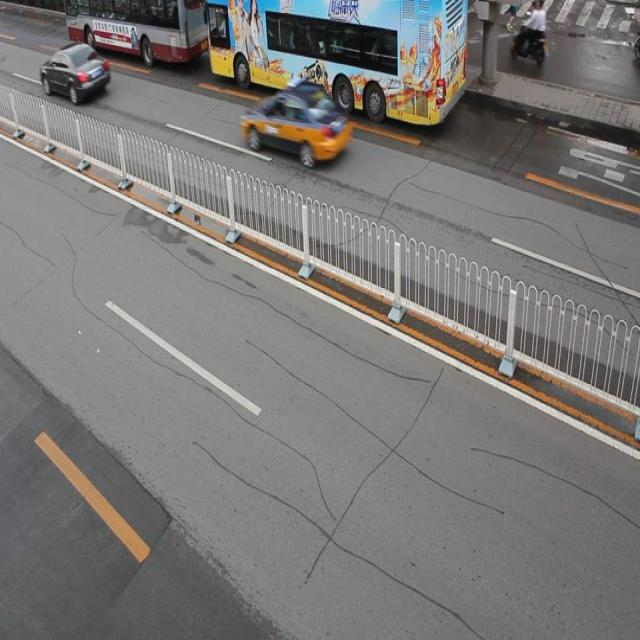car: (242, 82, 352, 166), (40, 41, 112, 102)
van: (207, 1, 466, 134), (65, 1, 210, 70)
